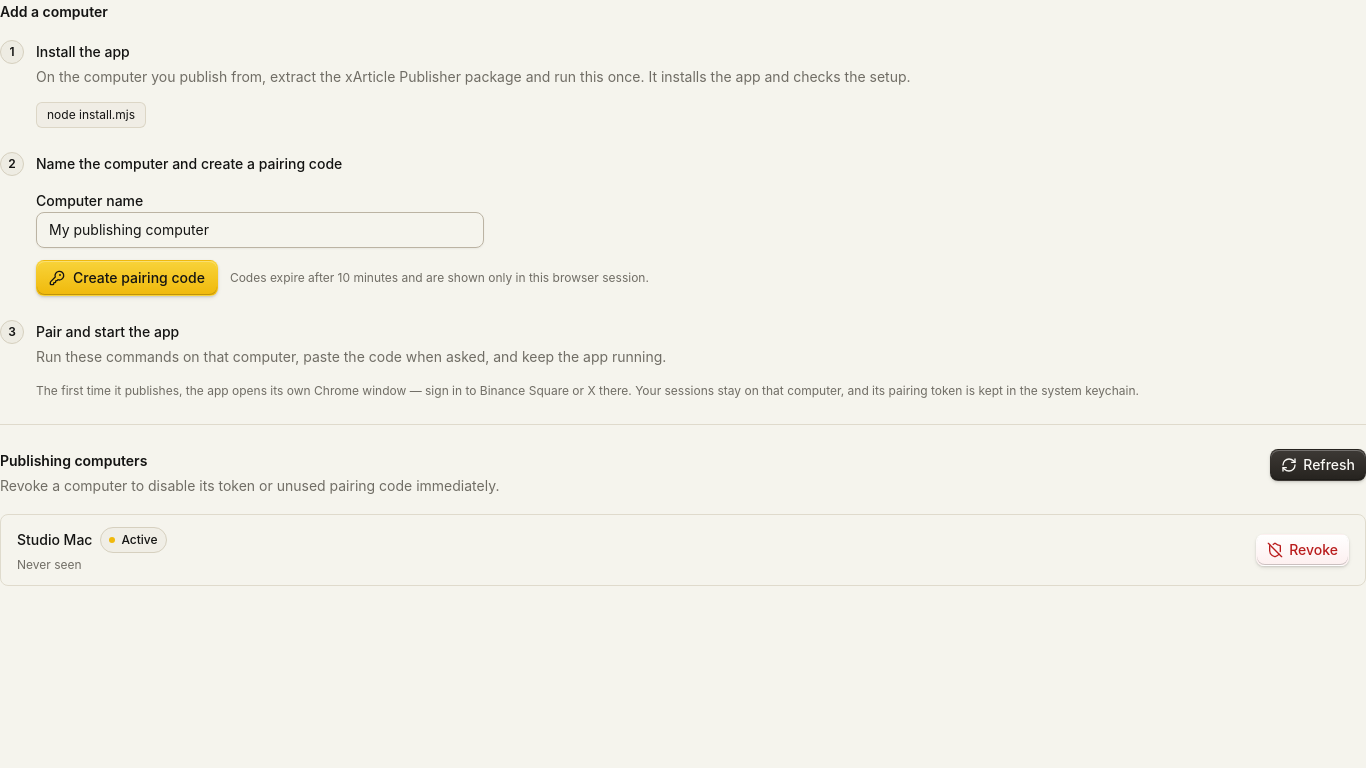
Scenario: PublisherDevicePairingCard › does not let a stale device refresh undo a successful revocation
Step 1. Click the button "Refresh" → point(1318, 465), box left=1270, top=449, right=1365, bottom=481
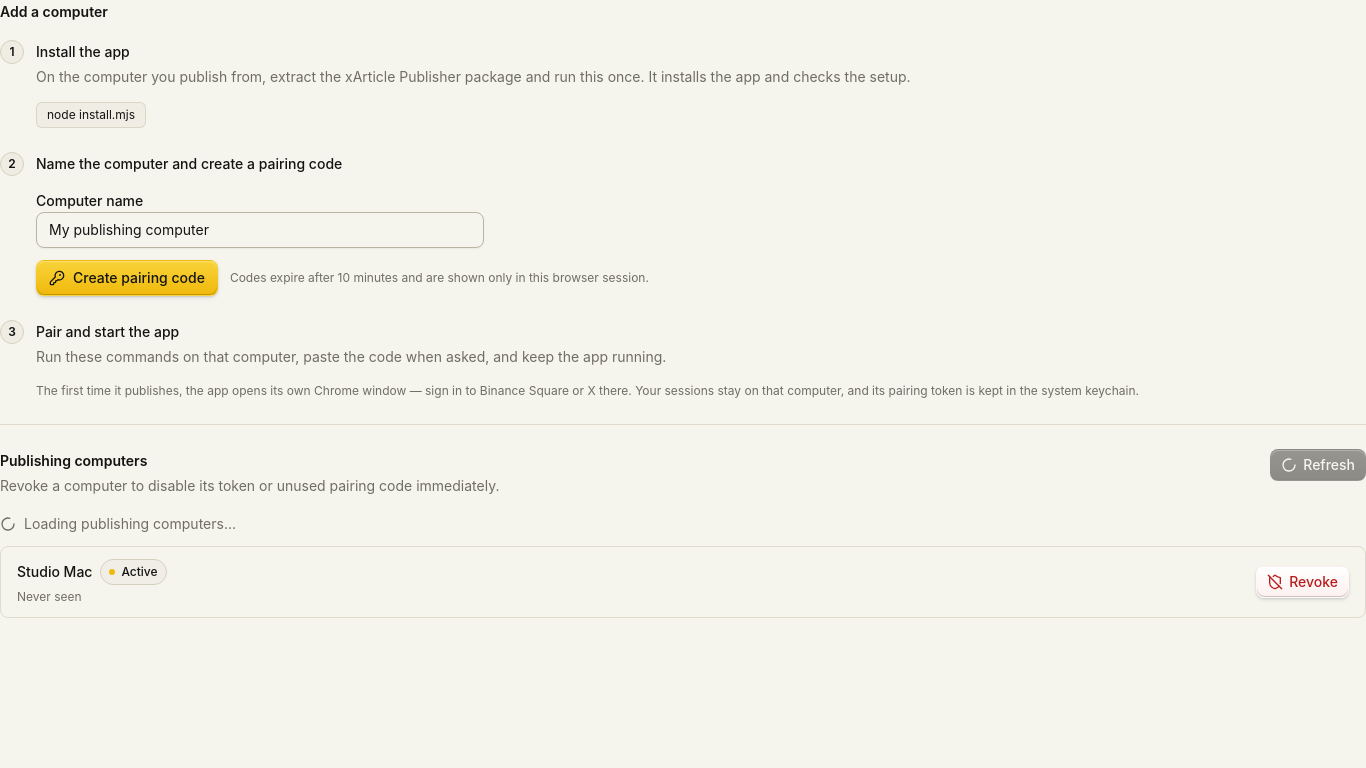
Step 2. Click the button with aria-label "Revoke Studio Mac" → point(1303, 582), box left=1256, top=566, right=1349, bottom=598
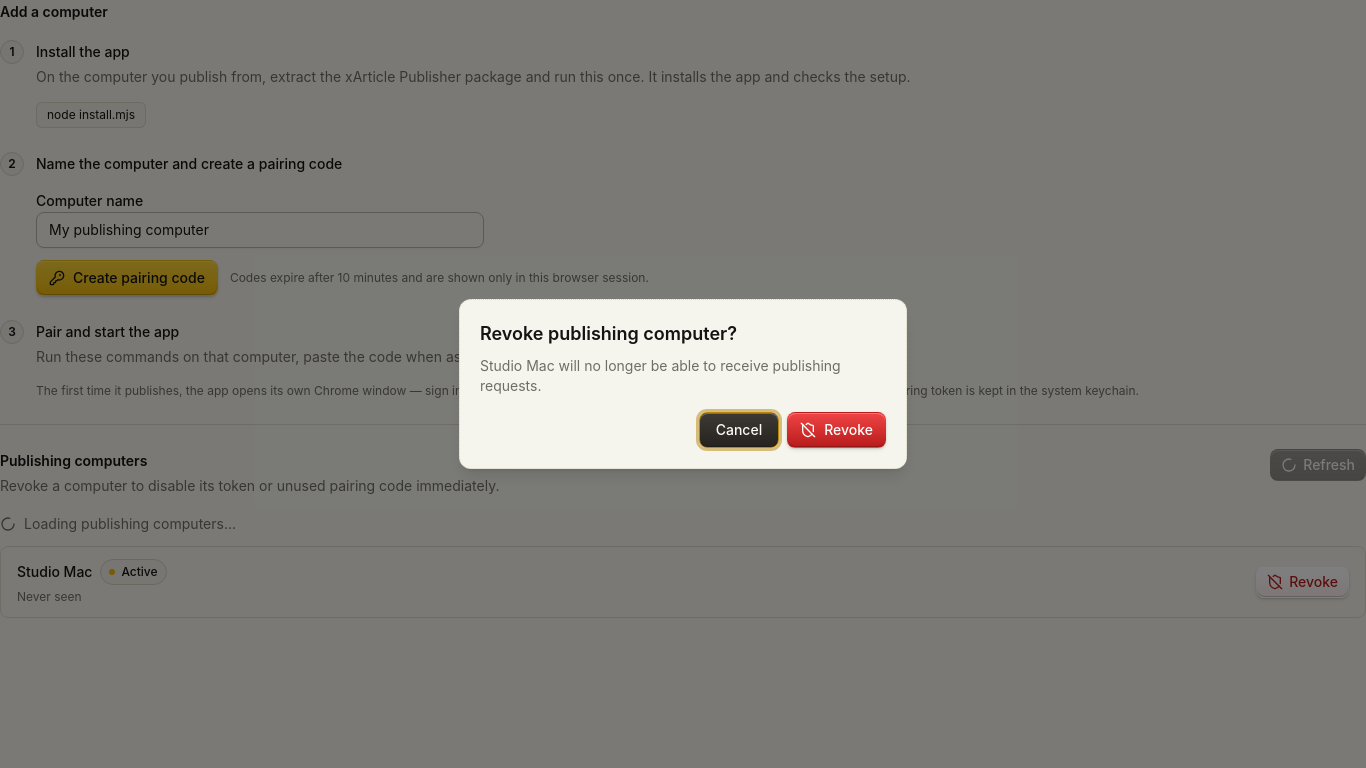
Step 3. Click the button "Revoke" → point(837, 430), box left=787, top=412, right=886, bottom=448
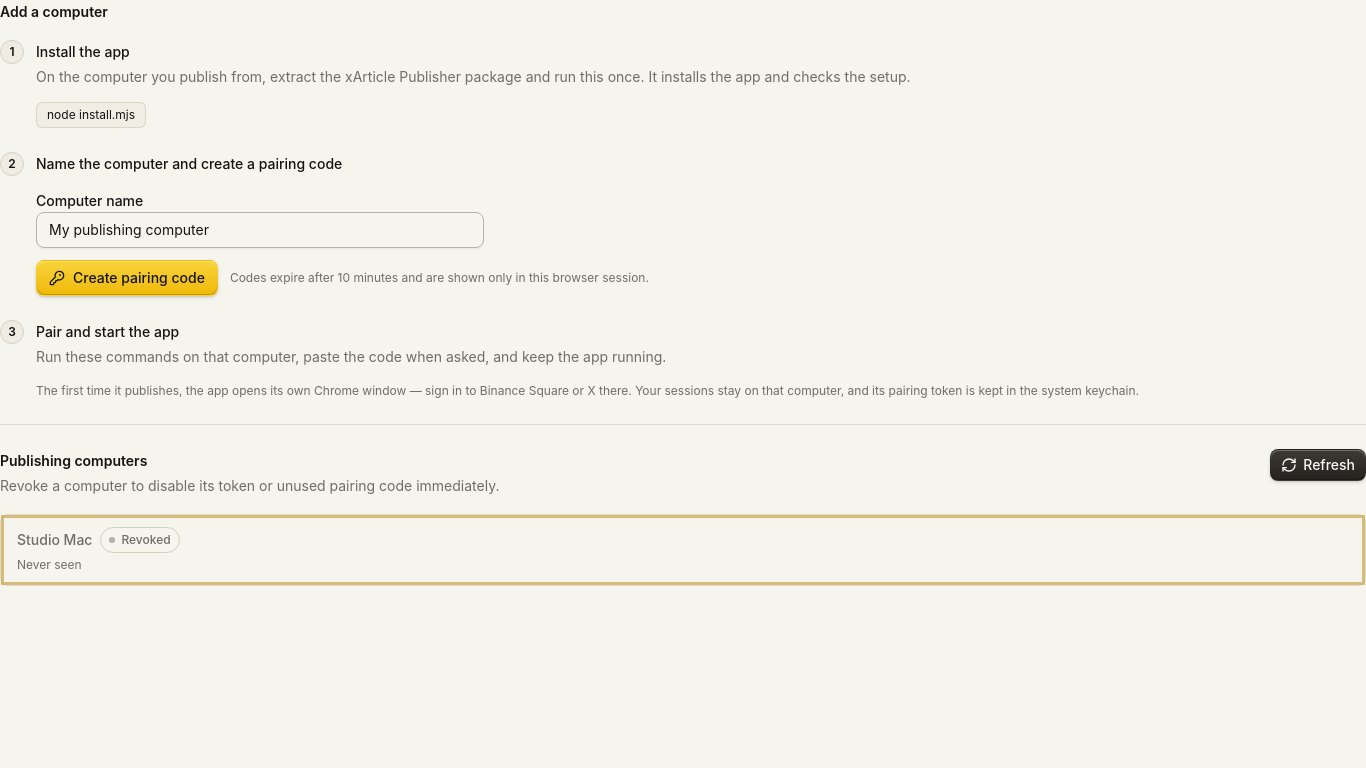
Check: the text "Revoked" is shown, box left=121, top=530, right=171, bottom=550
